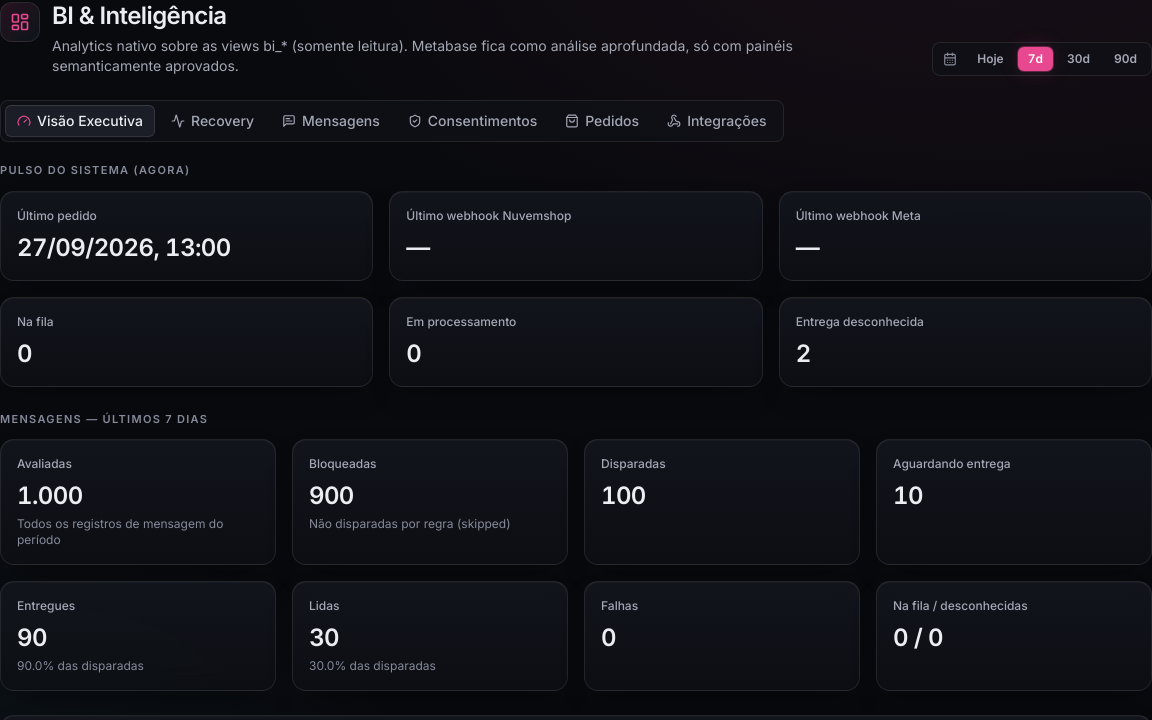
Test case: BiPage › integrações: agregado completo do período com taxa sobre eventos
Click the tab "Integrações": (717, 121) x1=655 y1=105 x2=778 y2=137
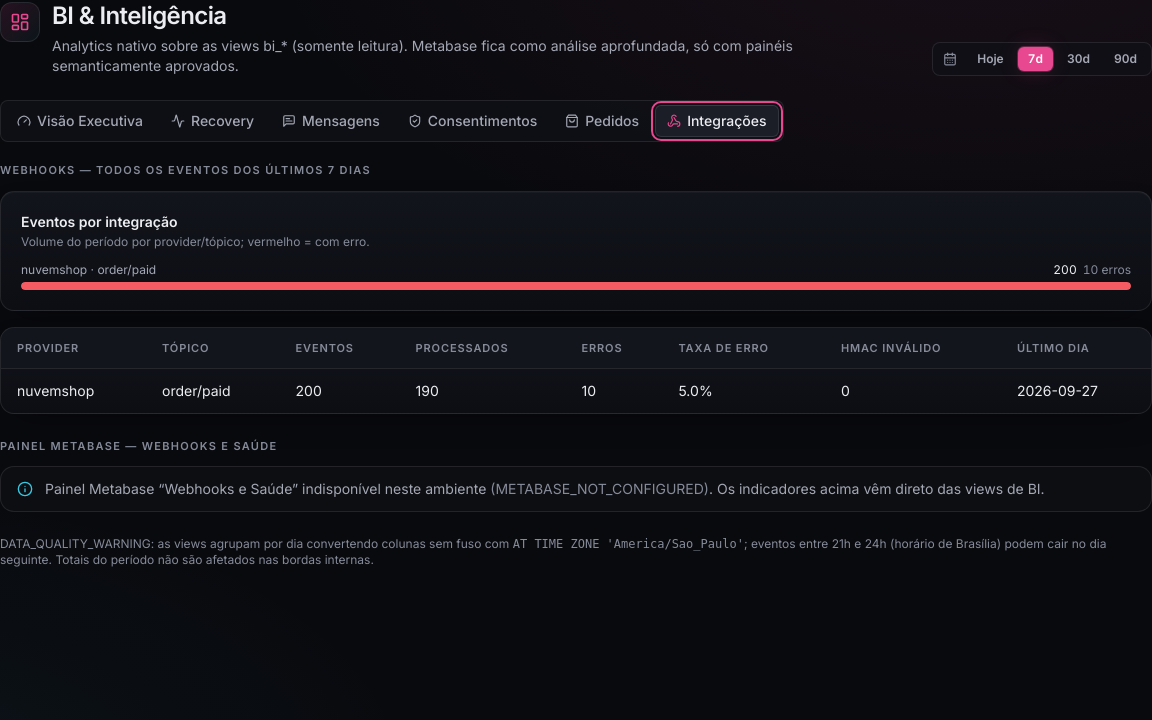
Expected: the text "5.0%" is shown, x1=662 y1=368 x2=825 y2=412
